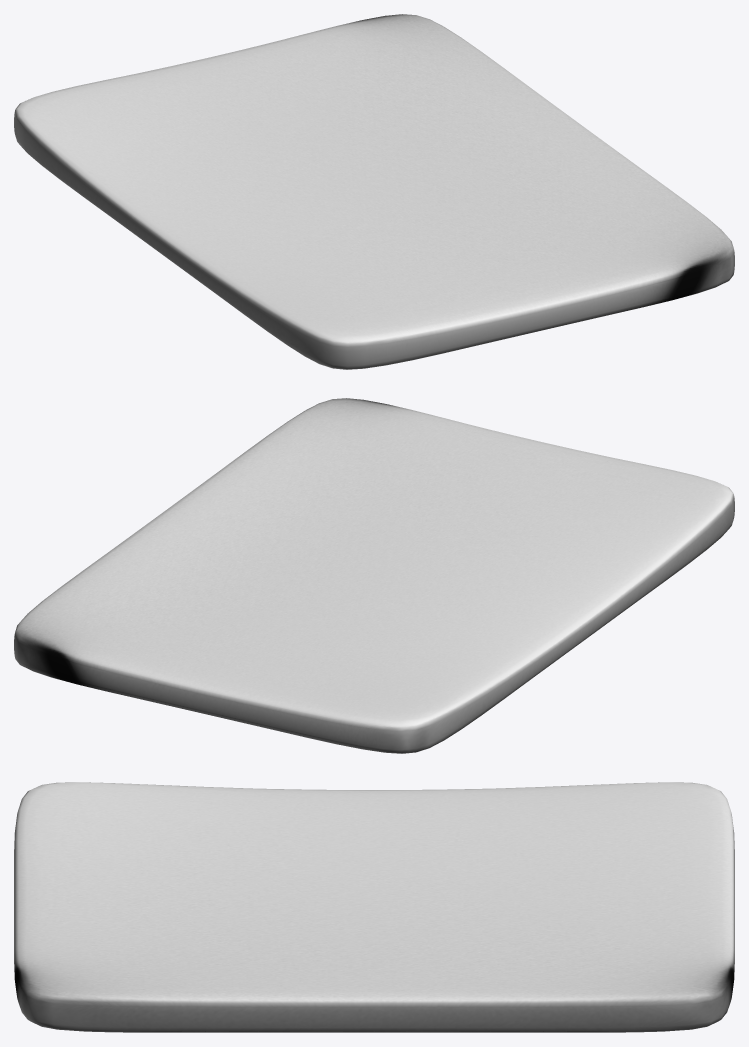
The model's file is Silla_Asiento.obj.
The picture shows the model from 3 angles, top to bottom: view 1: azimuth 30°, elevation 25°; view 2: azimuth 150°, elevation 25°; view 3: azimuth 270°, elevation 25°; orthographic projection. The views are drawn at different scales.
Visible parts, largest first — view 1: Silla_Asiento; view 2: Silla_Asiento; view 3: Silla_Asiento.
Boxes of the visible parts, x1,y1,x2,y2 form: Silla_Asiento: (14,14,734,369); Silla_Asiento: (14,398,734,753); Silla_Asiento: (14,782,734,1032).
Bounding box in the file's own units: 0.5233 × 0.0531 × 0.7258.
Materials: 1 (1 with a texture image).
